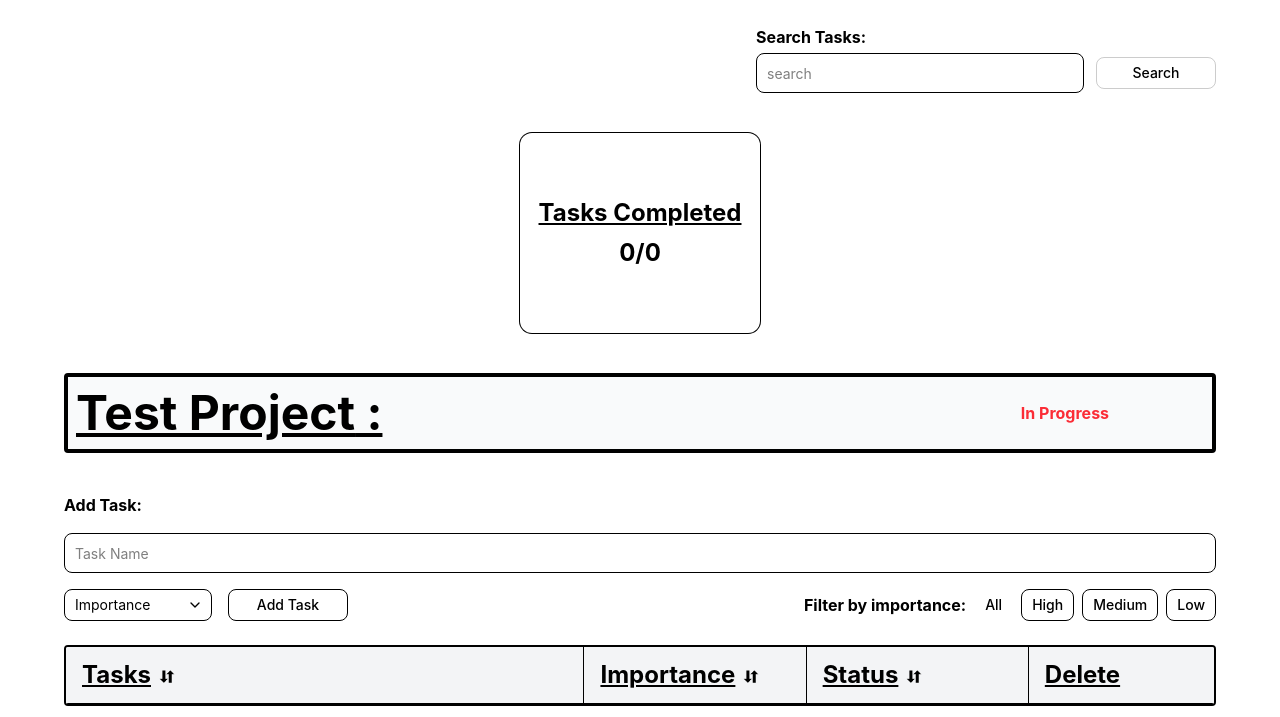
Test: ProjectTaskPage - Add Task › adds a new task when task name and importance are provided
Type "My New Task" into the field with placeholder "Task Name" at (640, 553), box [64,533,1216,573]
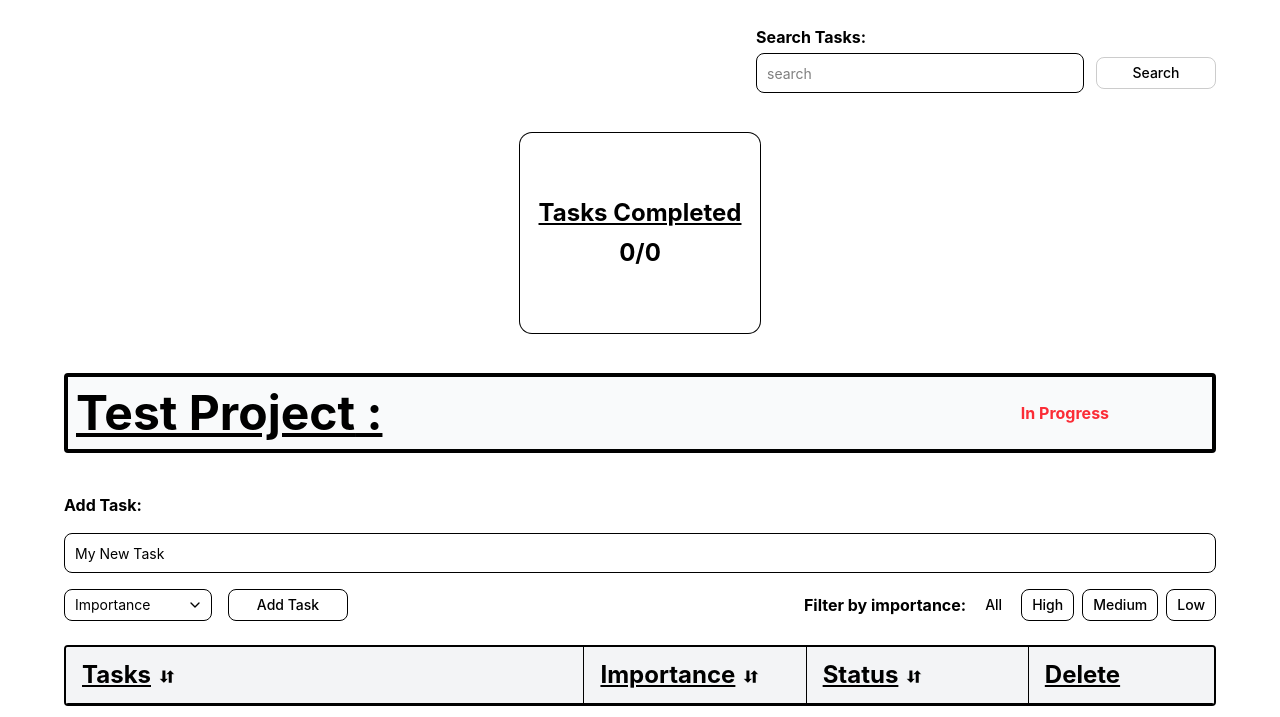
Click the dropdown "Importance" at (138, 605), box [64,589,212,621]
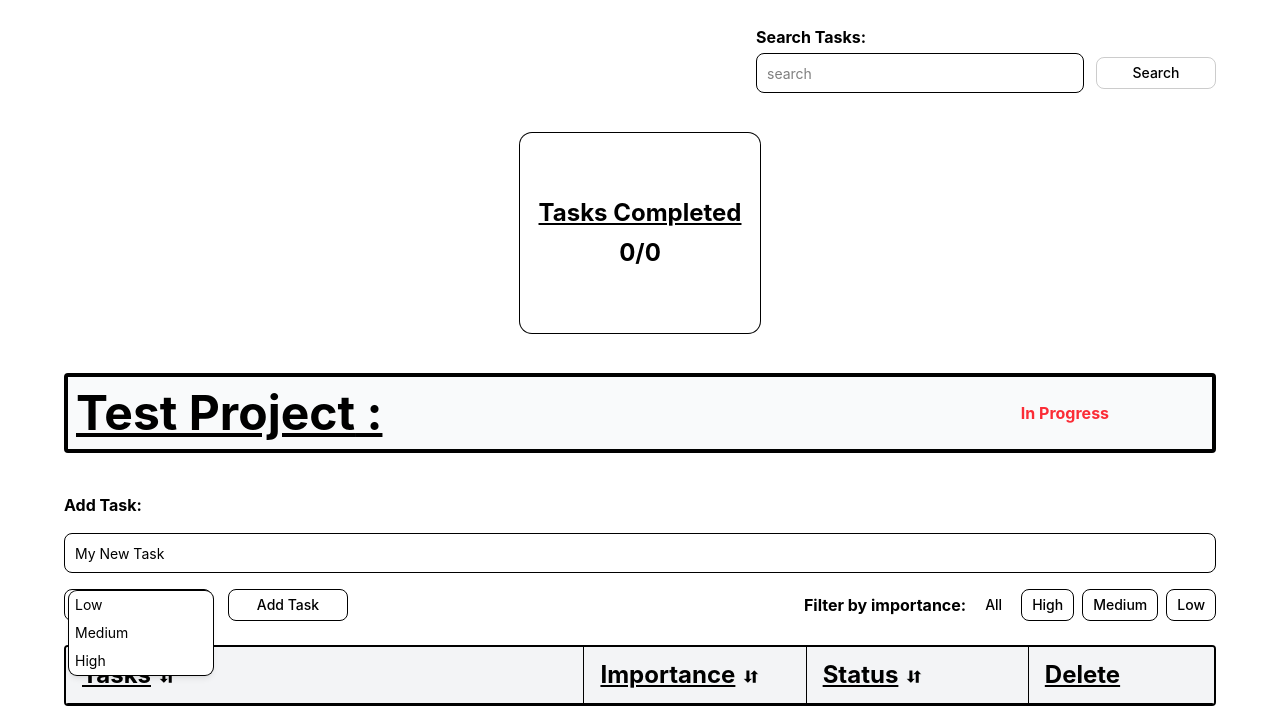
Now the text "High" is shown
Click the option "High" at (90, 660), box [75,652,106,669]
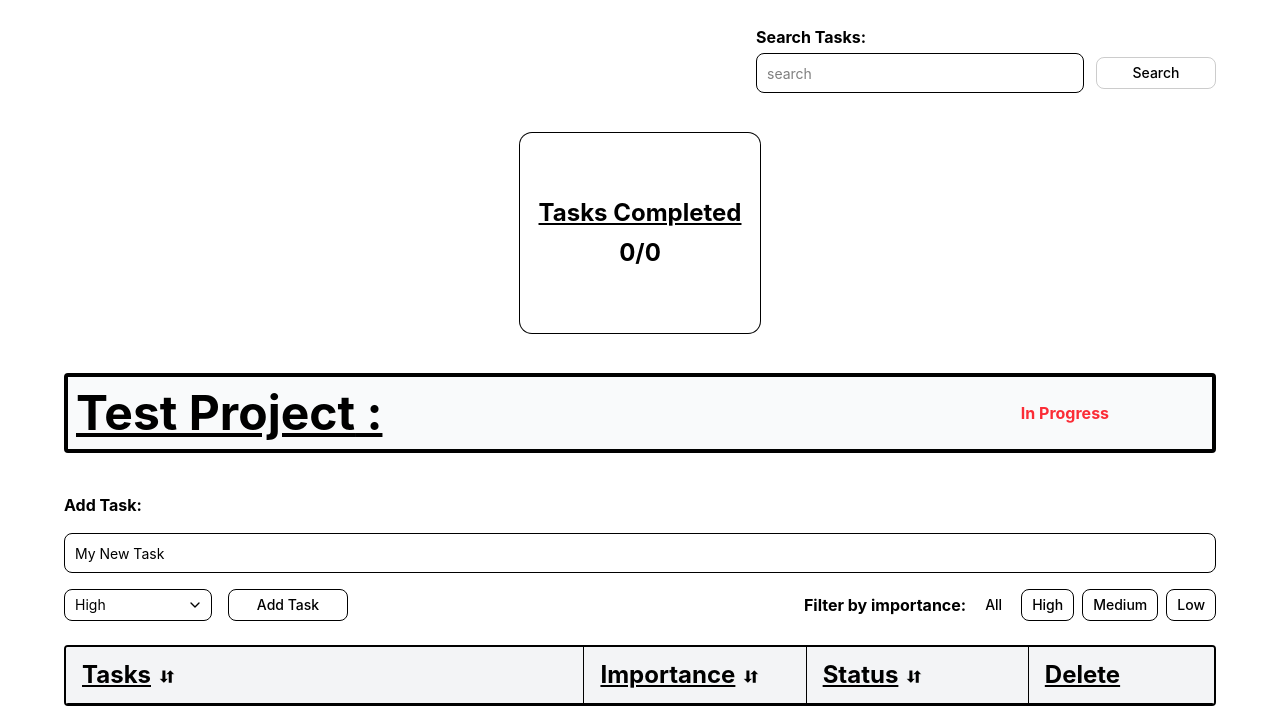
Click the button "Add Task" at (288, 605), box [228,589,348,621]
(page scrolled)
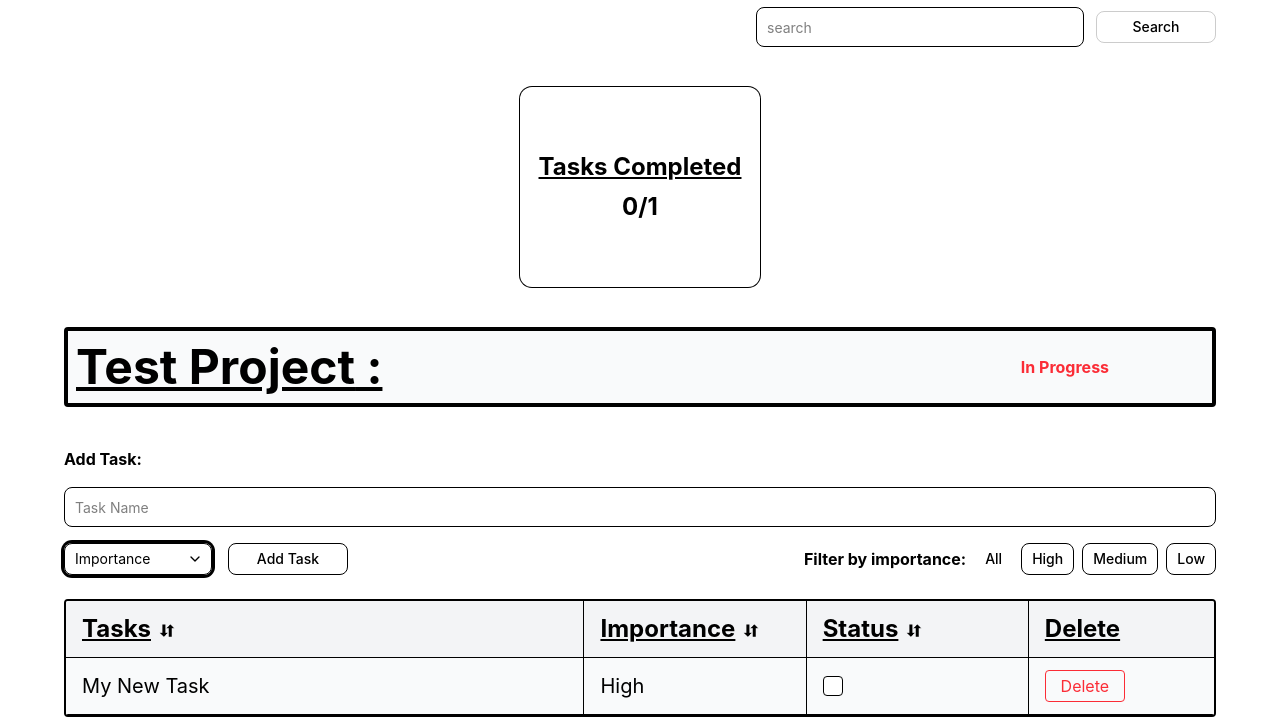
Now the text "My New Task" is shown, box [82,672,210,700]
